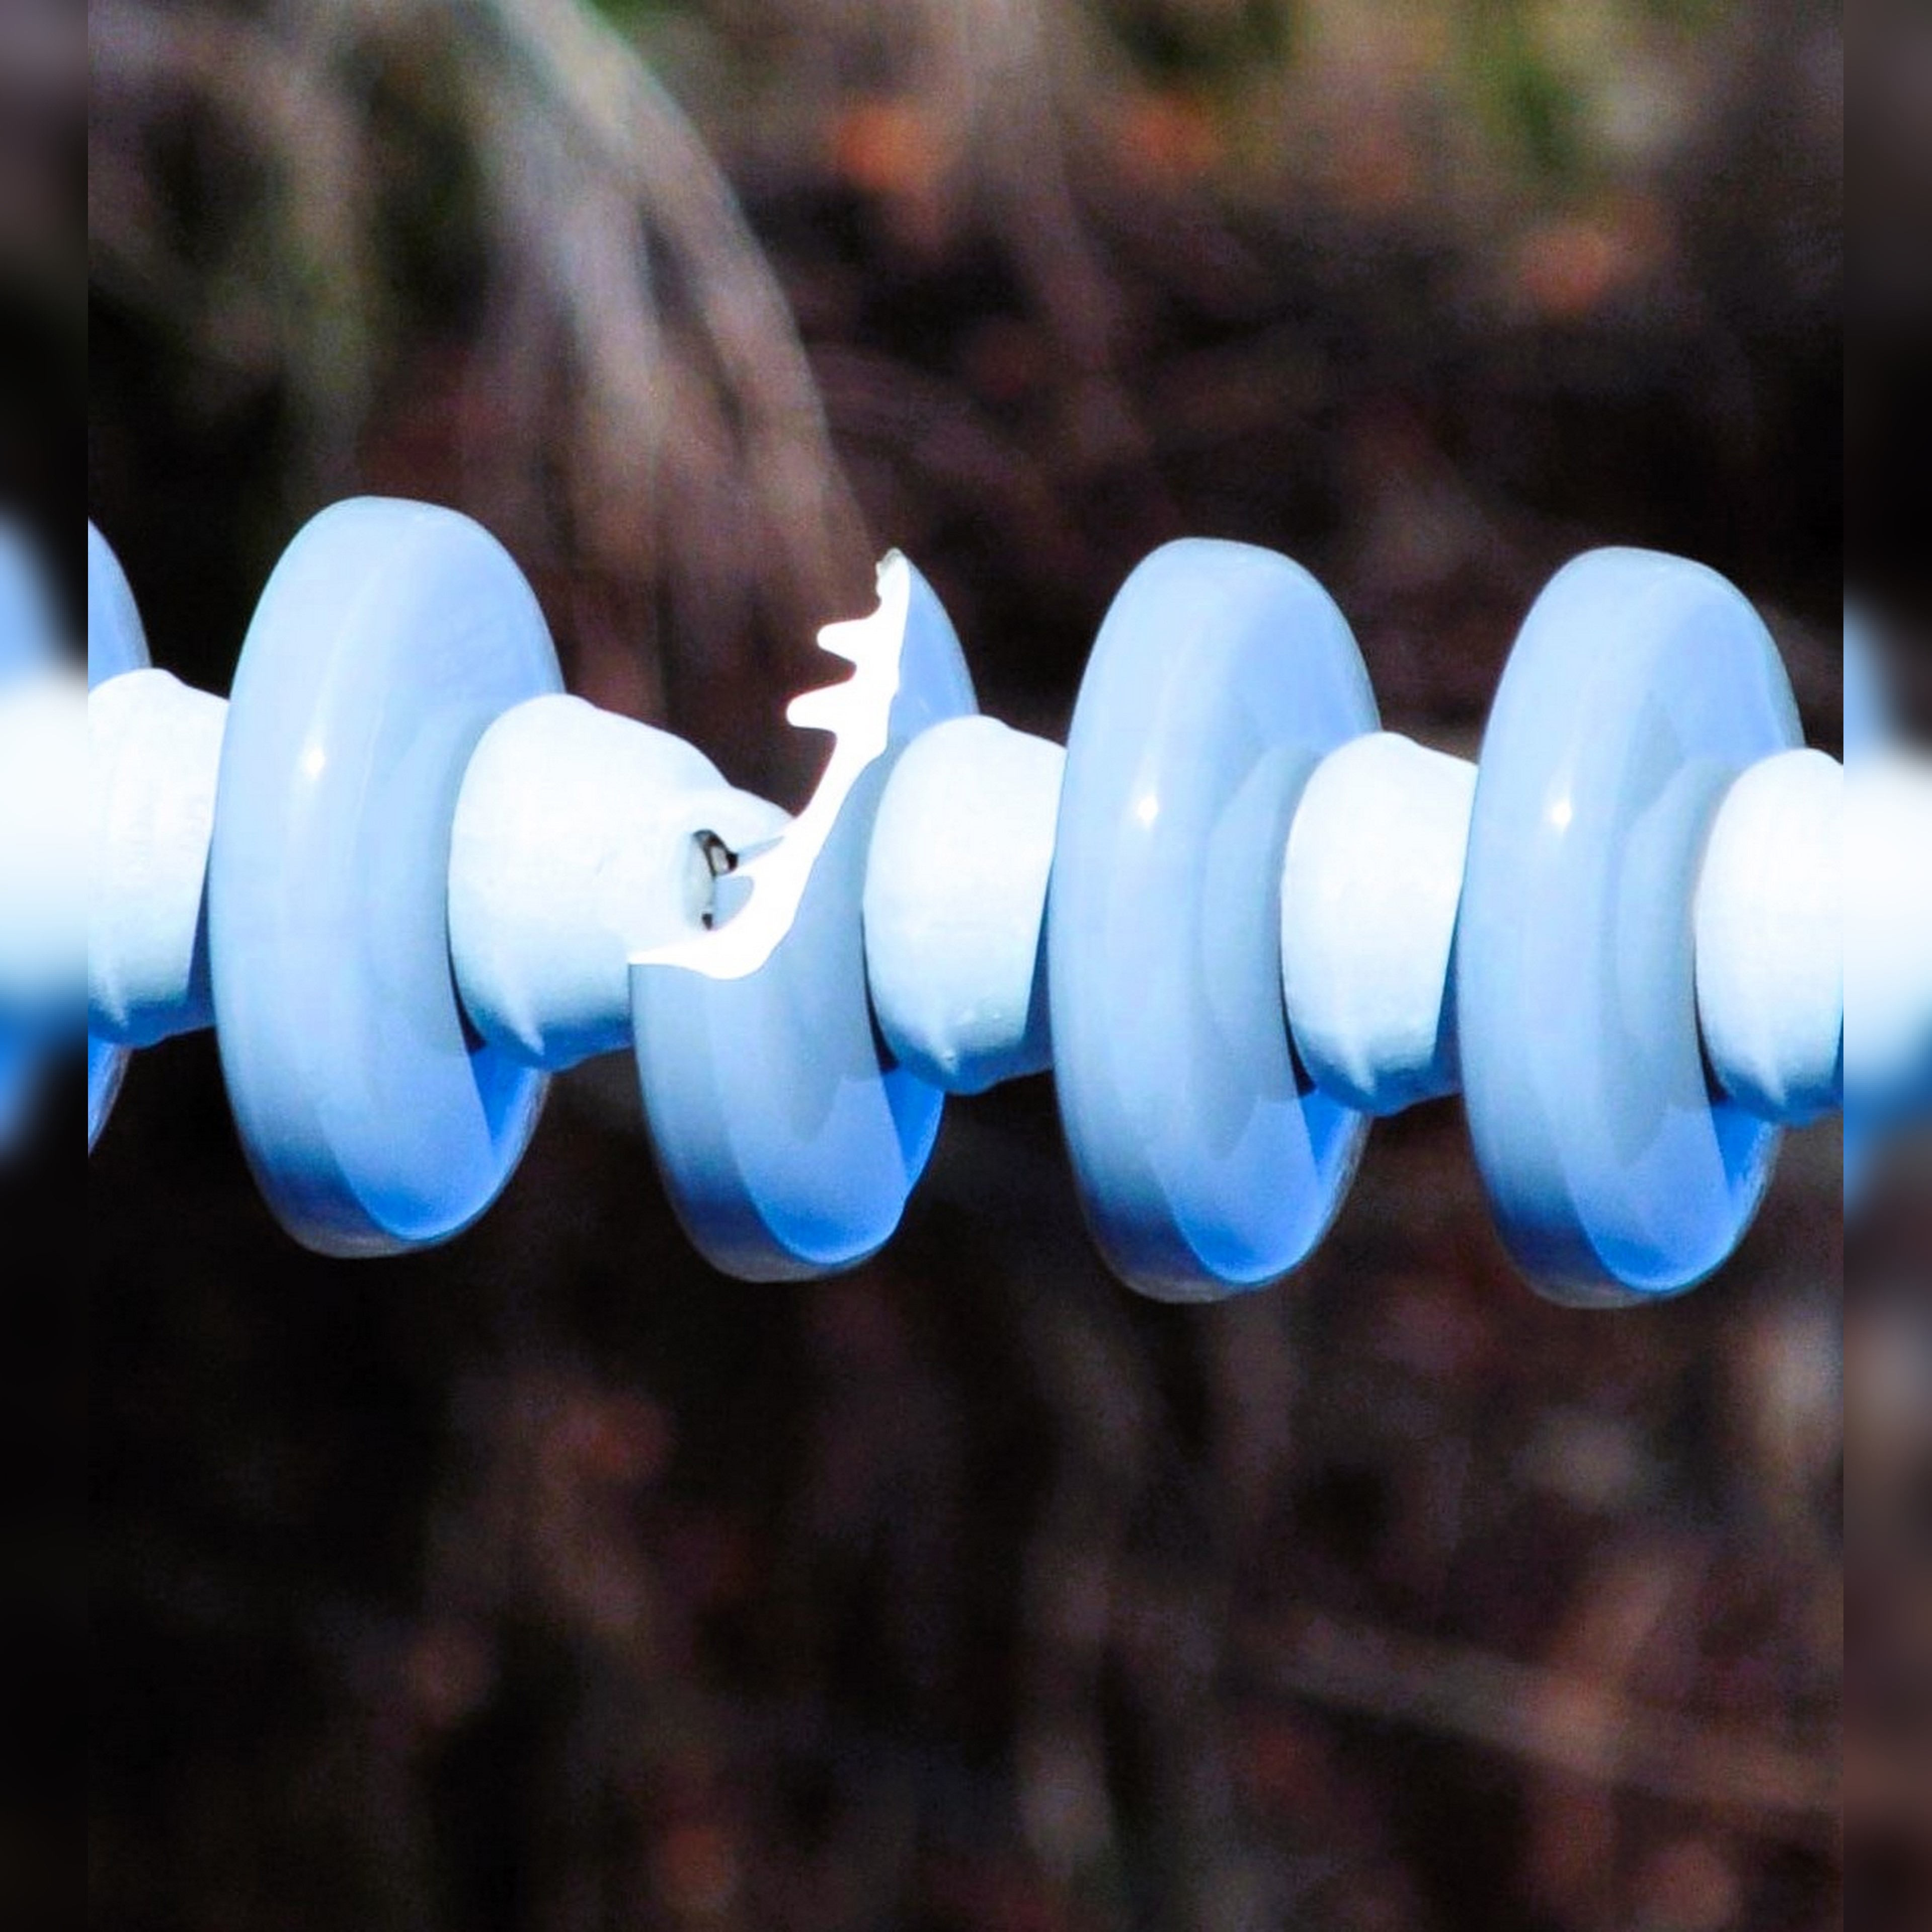insulator breakage: (610, 533, 1016, 1293)
